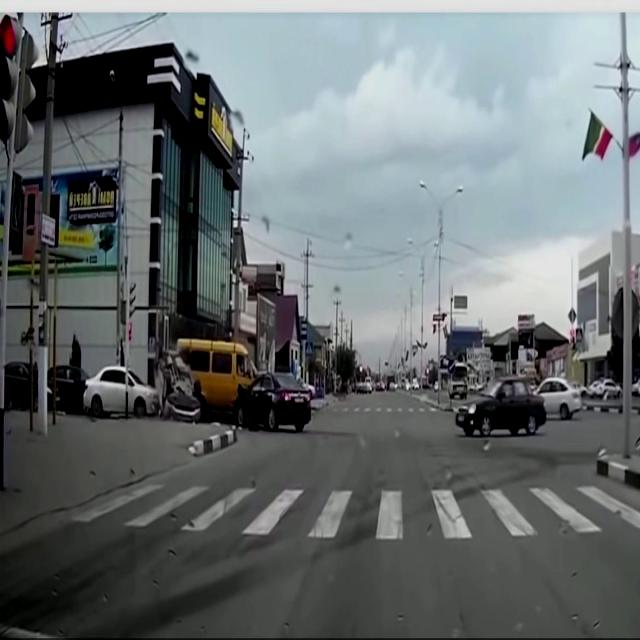accident: (152, 335, 314, 435)
non-accident: (3, 360, 155, 418), (455, 375, 585, 441), (354, 375, 398, 393)
